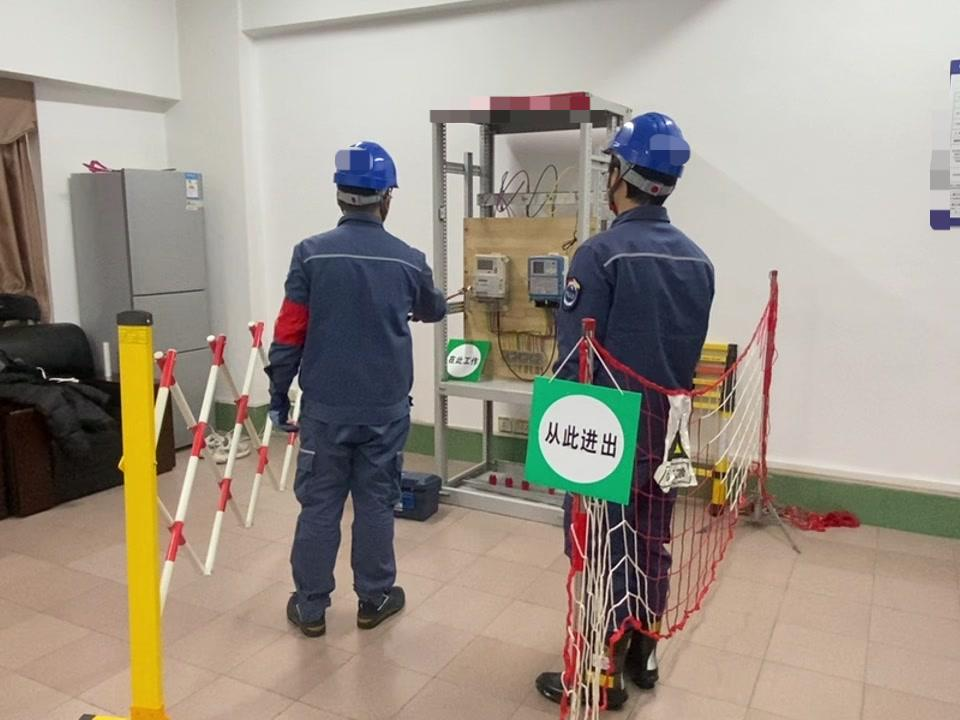halt: (604, 113, 690, 211), (334, 143, 402, 221)
inear: (605, 161, 633, 205)
